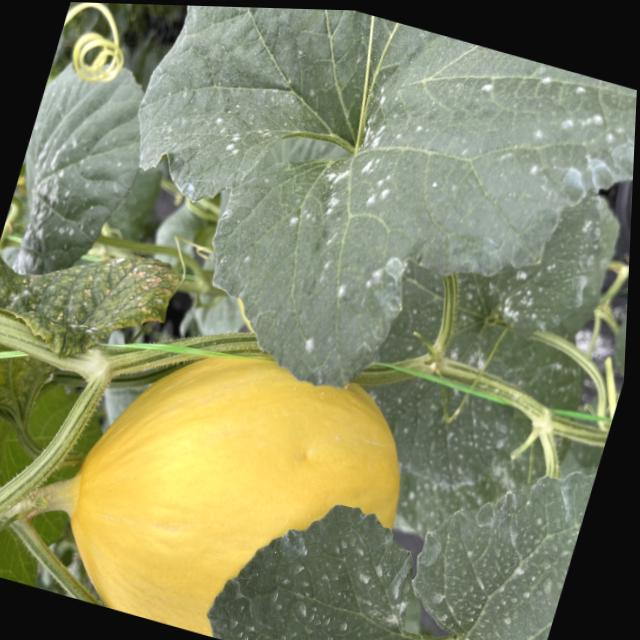powdery mildew: (70, 3, 640, 460), (196, 367, 603, 640), (0, 29, 173, 305)
